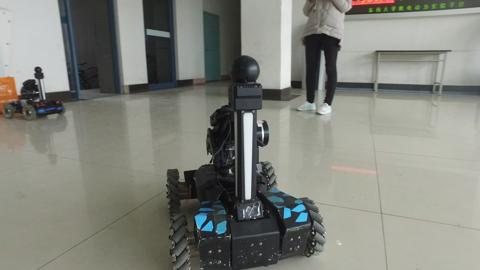bag: (1, 72, 19, 103)
chariot: (164, 52, 328, 270), (2, 65, 66, 123)
